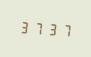seven: (57, 20, 69, 38), (31, 19, 43, 36)
three: (44, 19, 56, 37), (18, 18, 30, 35)
